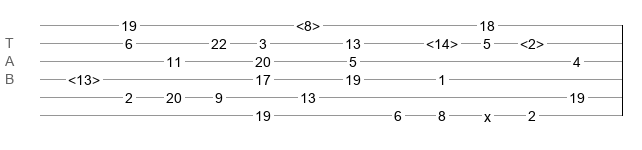1: (438, 72, 446, 82)
11: (166, 54, 182, 64)
13: (300, 90, 316, 100), (345, 36, 361, 46)
17: (255, 72, 271, 82)
18: (479, 18, 495, 28)
19: (121, 18, 137, 28), (255, 108, 271, 118), (345, 72, 361, 82), (569, 90, 585, 100)
2: (125, 90, 133, 100), (528, 108, 536, 118)
20: (166, 90, 182, 100), (255, 54, 271, 64)
22: (211, 36, 227, 46)
3: (259, 36, 267, 46)
4: (573, 54, 581, 64)
5: (349, 54, 357, 64), (483, 36, 491, 46)
6: (125, 36, 133, 46), (394, 108, 402, 118)
8: (438, 108, 446, 118)
9: (215, 90, 223, 100)
harmonic: (68, 72, 100, 82), (426, 36, 458, 46), (296, 18, 320, 28), (520, 36, 544, 46)
x: (484, 109, 491, 117)
